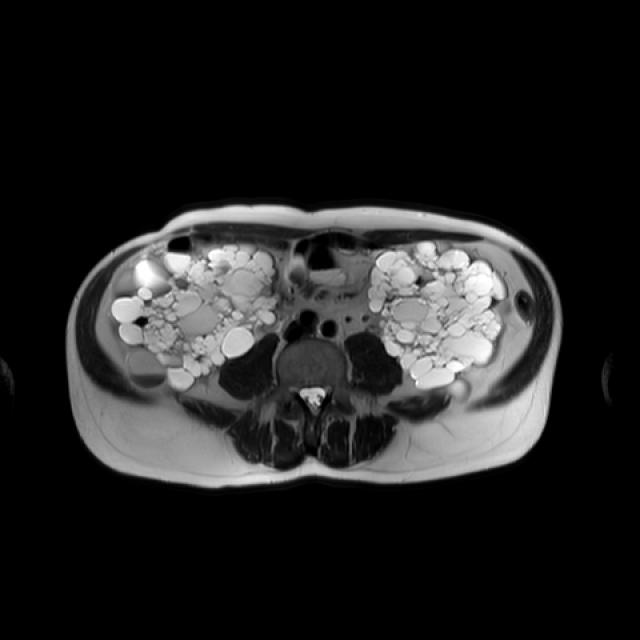sag: (106, 240, 287, 392)
sol: (367, 240, 512, 400)
